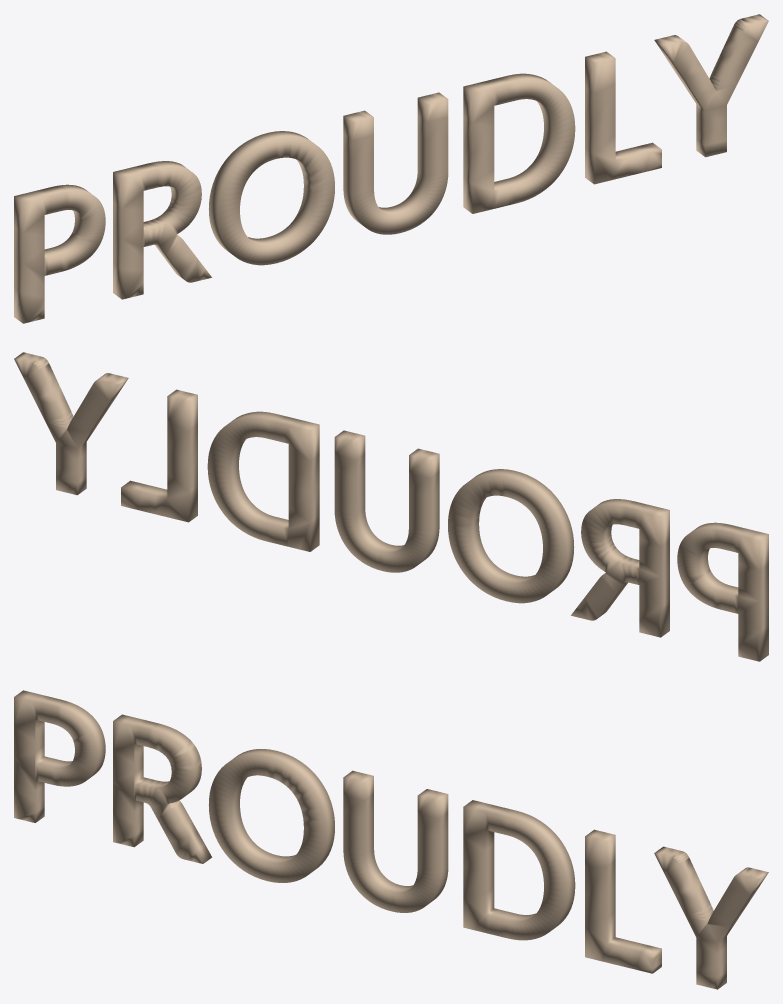
The model's file is proudly.dae.
3 views of the same model, one above another, from view 1: azimuth 30°, elevation 25°; view 2: azimuth 150°, elevation 25°; view 3: azimuth 330°, elevation 25° (orthographic).
Parts seen in each view (by area): view 1: text2-0; view 2: text2-0; view 3: text2-0.
Part boxes in pixels (x1,y1,x2,y2): text2-0: [14, 14, 768, 323]; text2-0: [14, 352, 768, 661]; text2-0: [14, 690, 768, 989].
Bounding box in the file's own units: 9.33 × 1.48 × 0.2.
